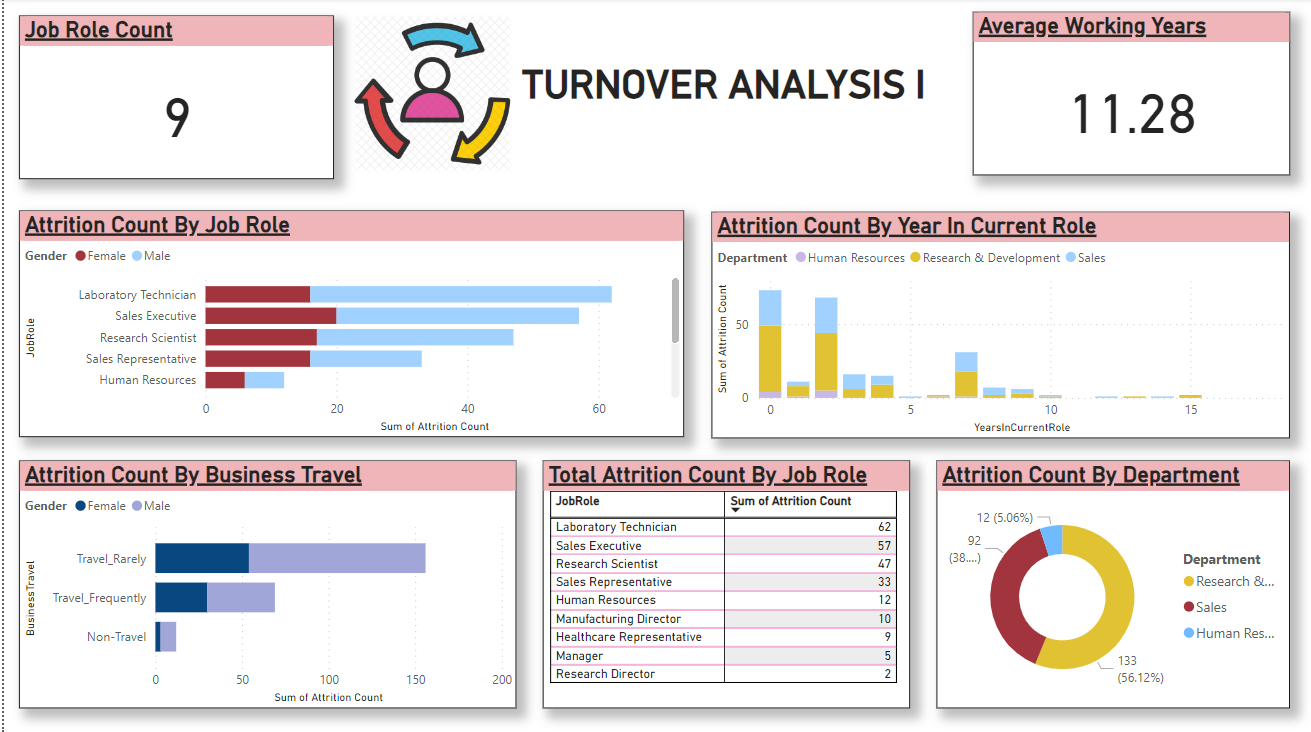

This screenshot's page, from the dashboard's own definition file:
{"tool":"powerbi","page":{"name":"Turnover Analysis I","canvas":[1280,720],"ordinal":2},"visuals":[{"type":"image","box":[294.6,9.8,248.1,167.5],"z":0},{"type":"textbox","box":[501.2,57.5,446.2,550.1],"z":1000},{"type":"card","title":"Job Role Count","fields":{"Values":["Count(HR-Employee-Attrition.JobRole)"]},"box":[14.7,17.1,308,160.1],"z":2000},{"type":"card","title":"Average Working Years","fields":{"Values":["Avg(HR-Employee-Attrition.TotalWorkingYears)"]},"box":[947.4,13.4,310.5,160.1],"z":3000},{"type":"barChart","title":"Attrition Count By Job Role","fields":{"Category":["HR-Employee-Attrition.JobRole"],"Y":["Sum(HR-Employee-Attrition.Attrition Count)"],"Series":["HR-Employee-Attrition.Gender"]},"box":[14.7,207.8,650.3,221.3],"z":4000},{"type":"columnChart","title":"Attrition Count By Year In Current Role","fields":{"Category":["HR-Employee-Attrition.YearsInCurrentRole"],"Y":["Sum(HR-Employee-Attrition.Attrition Count)"],"Series":["HR-Employee-Attrition.Department"]},"box":[691.9,209,566,221.3],"z":5000},{"type":"barChart","title":"Attrition Count By Business Travel","fields":{"Y":["Sum(HR-Employee-Attrition.Attrition Count)"],"Series":["HR-Employee-Attrition.Gender"],"Category":["HR-Employee-Attrition.BusinessTravel"]},"box":[14.7,452.3,486.5,242],"z":6000},{"type":"tableEx","title":"Total Attrition Count By Job Role","fields":{"Values":["HR-Employee-Attrition.JobRole","Sum(HR-Employee-Attrition.Attrition Count)"]},"box":[526.9,452.3,359.4,242],"z":7000},{"type":"donutChart","title":"Attrition Count By Department","fields":{"Y":["Sum(HR-Employee-Attrition.Attrition Count)"],"Category":["HR-Employee-Attrition.Department"]},"box":[911.9,452.3,345.9,242],"z":8000}]}

Visuals, with their boxes in screenshot pixels (x1, y1, x2, y2), scaled from the page's 1280x720 canvas onto the 1311x732 screenshot:
image: 302/10/556/180
textbox: 513/58/970/618
"Job Role Count" card: 15/17/331/180
"Average Working Years" card: 970/14/1288/176
"Attrition Count By Job Role" barChart: 15/211/681/436
"Attrition Count By Year In Current Role" columnChart: 709/212/1288/437
"Attrition Count By Business Travel" barChart: 15/460/513/706
"Total Attrition Count By Job Role" tableEx: 540/460/908/706
"Attrition Count By Department" donutChart: 934/460/1288/706
